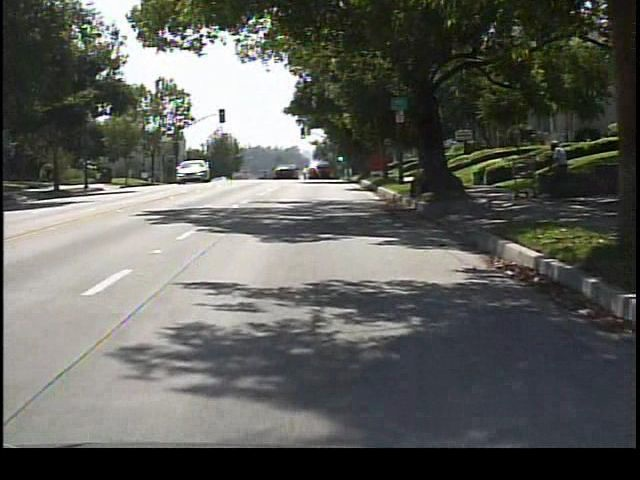person: (539, 137, 570, 205)
